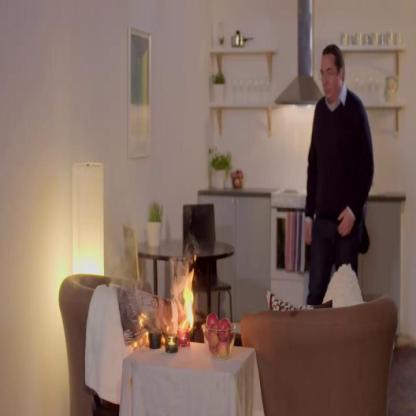fire: (182, 252, 197, 330)
